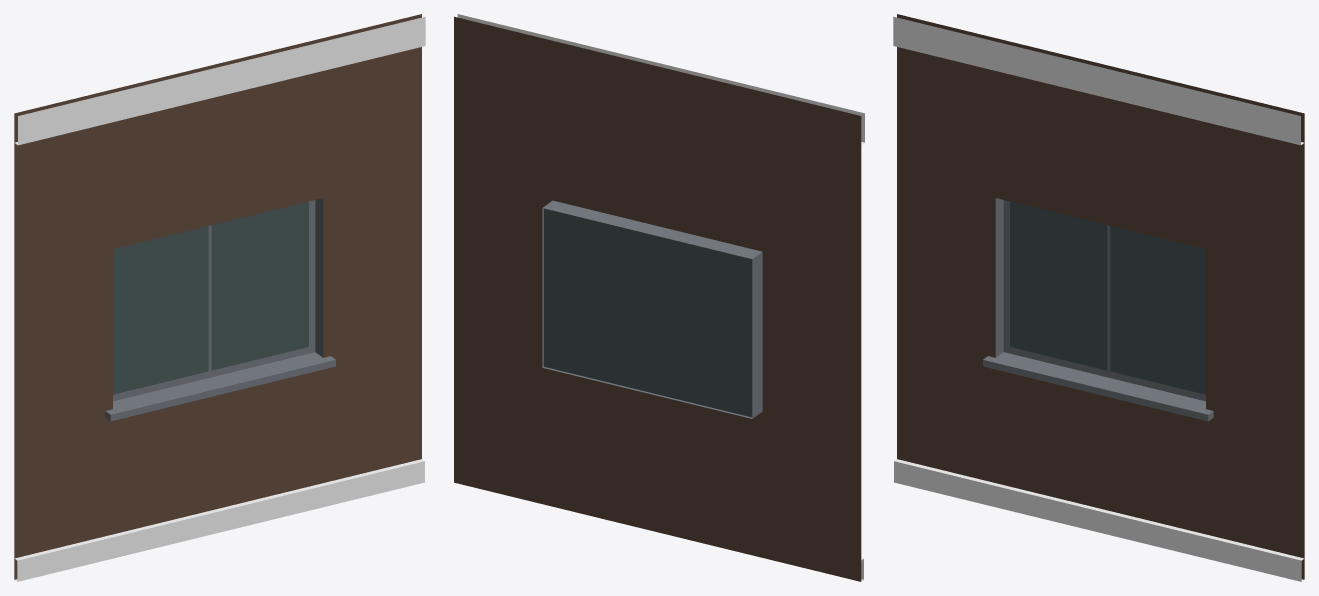
File: top-w3.fbx
3 renders of one model, left to right at view 1: azimuth 30°, elevation 25°; view 2: azimuth 150°, elevation 25°; view 3: azimuth 330°, elevation 25°, orthographic.
Parts seen in each view (by area): view 1: a2000s3/800/top-w3; view 2: a2000s3/800/top-w3; view 3: a2000s3/800/top-w3.
Boxes of the visible parts, x1,y1,x2,y2 form: a2000s3/800/top-w3: (14, 14, 425, 581); a2000s3/800/top-w3: (454, 14, 864, 581); a2000s3/800/top-w3: (893, 14, 1304, 581).
Size of the model in its own units: 3.2 by 3.5 by 0.21.
